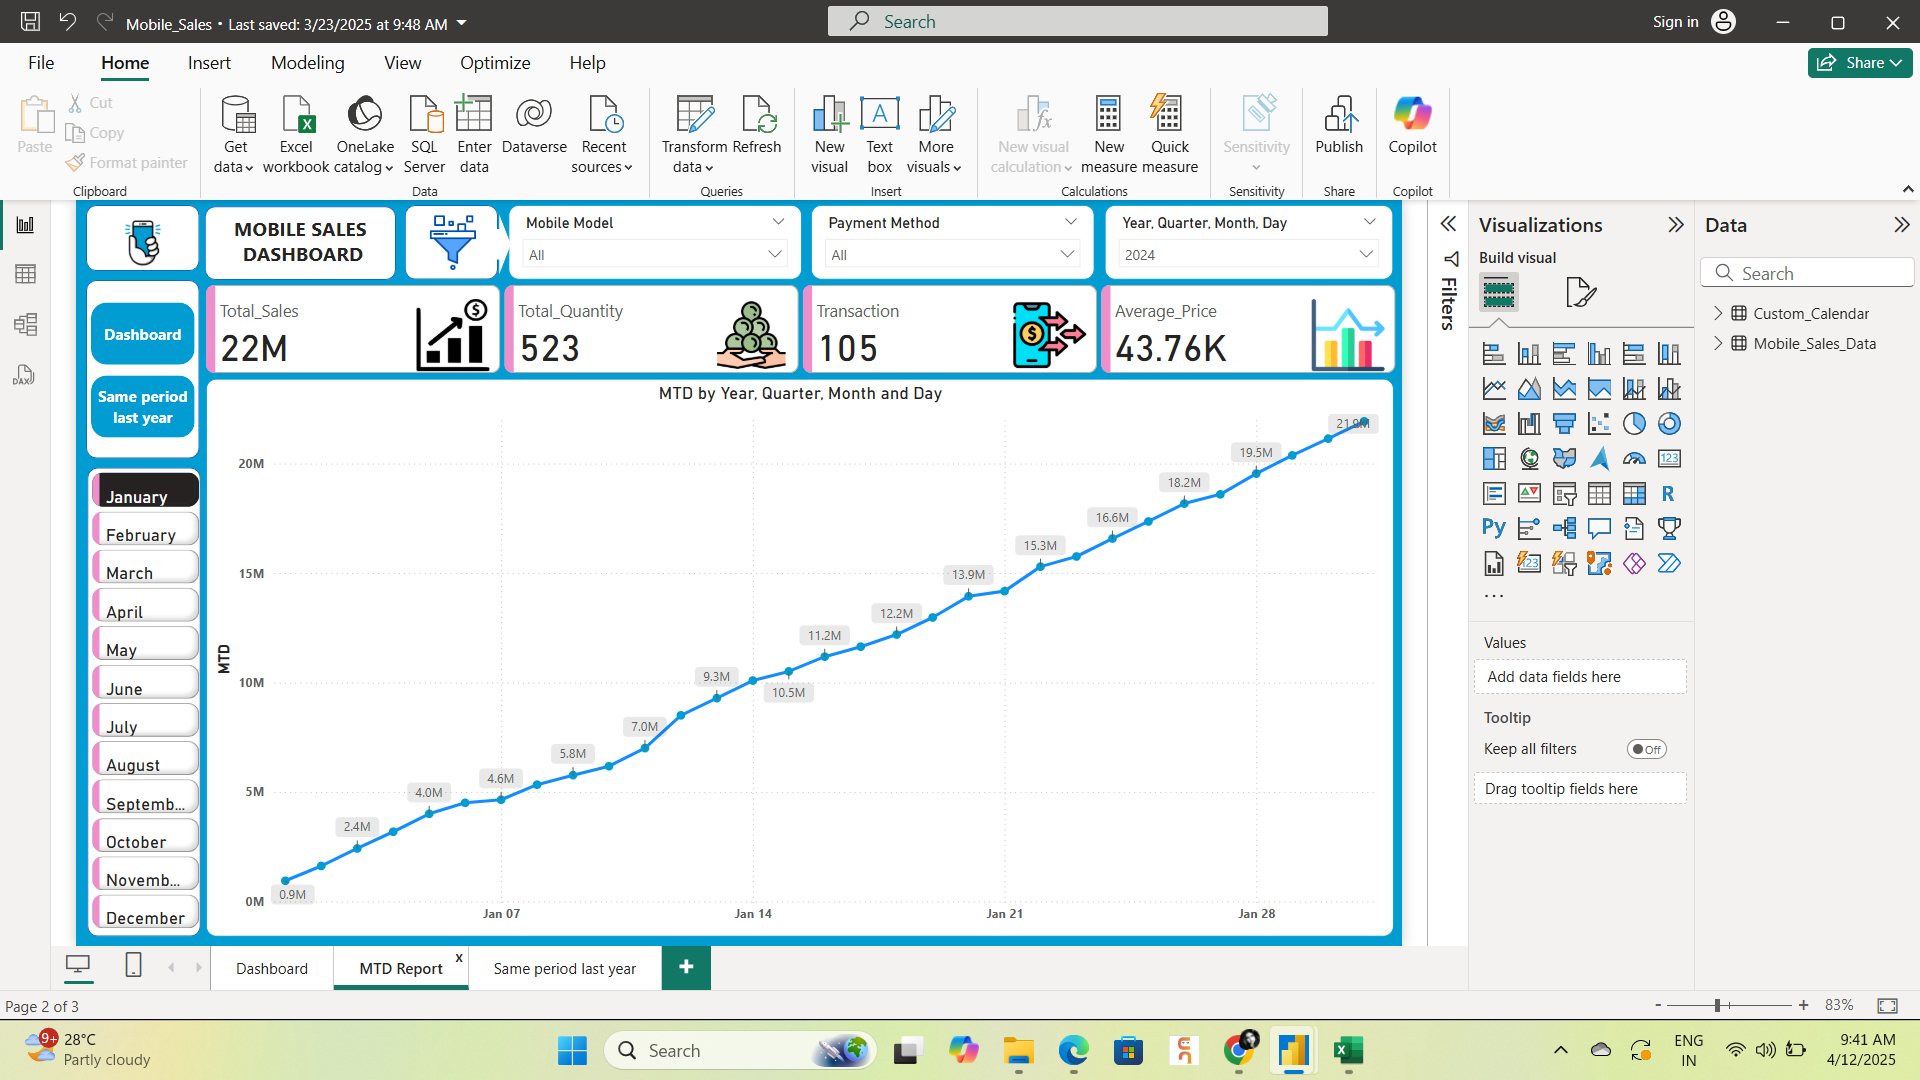

The dashboard page shown, as its layout file describes it:
{"tool":"powerbi","page":{"name":"MTD Report","canvas":[1280,720],"ordinal":1},"visuals":[{"type":"shape","box":[9.7,4.8,109.8,63.9],"z":0},{"type":"image","box":[31.4,4.8,66.4,72.4],"z":1000},{"type":"shape","box":[9.7,77.2,109.8,172.5],"z":2000},{"type":"shape","box":[10.9,258.2,109.8,452.4],"z":3000},{"type":"advancedSlicerVisual","fields":{"Values":["Custom_Calendar.Date.Variation.Date Hierarchy.Month"]},"box":[10.9,258.2,113.4,452.4],"z":4000},{"type":"cardVisual","fields":{"Data":["Mobile_Sales_Data.Total_Sales","Mobile_Sales_Data.Total_Quantity","Mobile_Sales_Data.Transaction","Mobile_Sales_Data.Average_Price"]},"box":[120.6,77.2,1159.4,95.3],"z":5000},{"type":"slicer","fields":{"Values":["Mobile_Sales_Data.Mobile Model"]},"box":[417.4,4.8,283.5,72.4],"z":6000},{"type":"slicer","fields":{"Values":["Custom_Calendar.Date.Variation.Date Hierarchy.Year","Custom_Calendar.Date.Variation.Date Hierarchy.Quarter","Custom_Calendar.Date.Variation.Date Hierarchy.Month","Custom_Calendar.Date.Variation.Date Hierarchy.Day"]},"box":[992.9,4.8,278.7,72.4],"z":7000},{"type":"slicer","fields":{"Values":["Mobile_Sales_Data.Payment Method"]},"box":[709.4,4.8,273.9,72.4],"z":8000},{"type":"shape","box":[317.3,4.8,90.5,72.4],"z":9000},{"type":"image","box":[331.8,6,63.9,71.2],"z":10000},{"type":"shape","box":[396.9,13.3,22.9,59.1],"z":11000},{"type":"shape","box":[124.3,6,184.6,71.2],"z":12000},{"type":"textbox","box":[139.9,9.7,153.2,65.1],"z":13000},{"type":"lineChart","fields":{"Category":["Custom_Calendar.Date.Variation.Date Hierarchy.Year","Custom_Calendar.Date.Variation.Date Hierarchy.Quarter","Custom_Calendar.Date.Variation.Date Hierarchy.Month","Custom_Calendar.Date.Variation.Date Hierarchy.Day"],"Y":["Mobile_Sales_Data.MTD"]},"box":[125,172.5,1146.2,538.8],"z":18000},{"type":"pageNavigator","box":[14.5,98.9,100.1,130.3],"z":18001}]}

Visuals, with their boxes on the page's 1280x720 design canvas (x1, y1, x2, y2). These are canvas units, not pixel positions in the 1920x1080 screenshot, which may show the page scaled, cropped or inside an application window:
shape: [10, 5, 120, 69]
image: [31, 5, 98, 77]
shape: [10, 77, 120, 250]
shape: [11, 258, 121, 711]
advancedSlicerVisual - Custom_Calendar.Date.Variation.Date Hierarchy.Month: [11, 258, 124, 711]
cardVisual - Mobile_Sales_Data.Total_Sales x Mobile_Sales_Data.Total_Quantity: [121, 77, 1280, 172]
slicer - Mobile_Sales_Data.Mobile Model: [417, 5, 701, 77]
slicer - Custom_Calendar.Date.Variation.Date Hierarchy.Year x Custom_Calendar.Date.Variation.Date Hierarchy.Quarter: [993, 5, 1272, 77]
slicer - Mobile_Sales_Data.Payment Method: [709, 5, 983, 77]
shape: [317, 5, 408, 77]
image: [332, 6, 396, 77]
shape: [397, 13, 420, 72]
shape: [124, 6, 309, 77]
textbox: [140, 10, 293, 75]
lineChart - Custom_Calendar.Date.Variation.Date Hierarchy.Year x Custom_Calendar.Date.Variation.Date Hierarchy.Quarter: [125, 172, 1271, 711]
pageNavigator: [14, 99, 115, 229]
